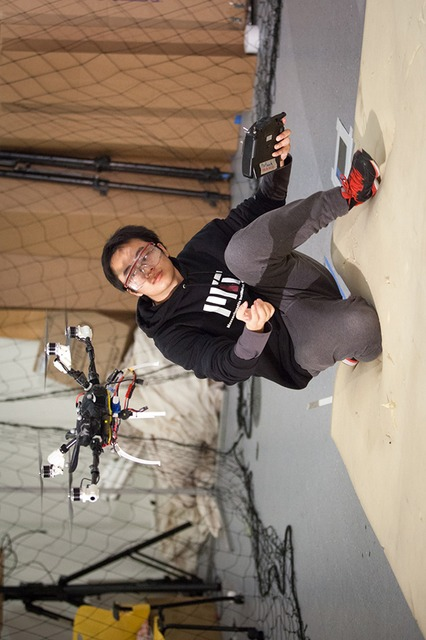drone: (40, 321, 164, 513)
